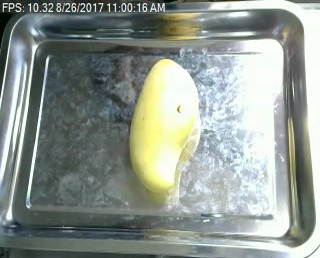Mango: (121, 56, 200, 192)
